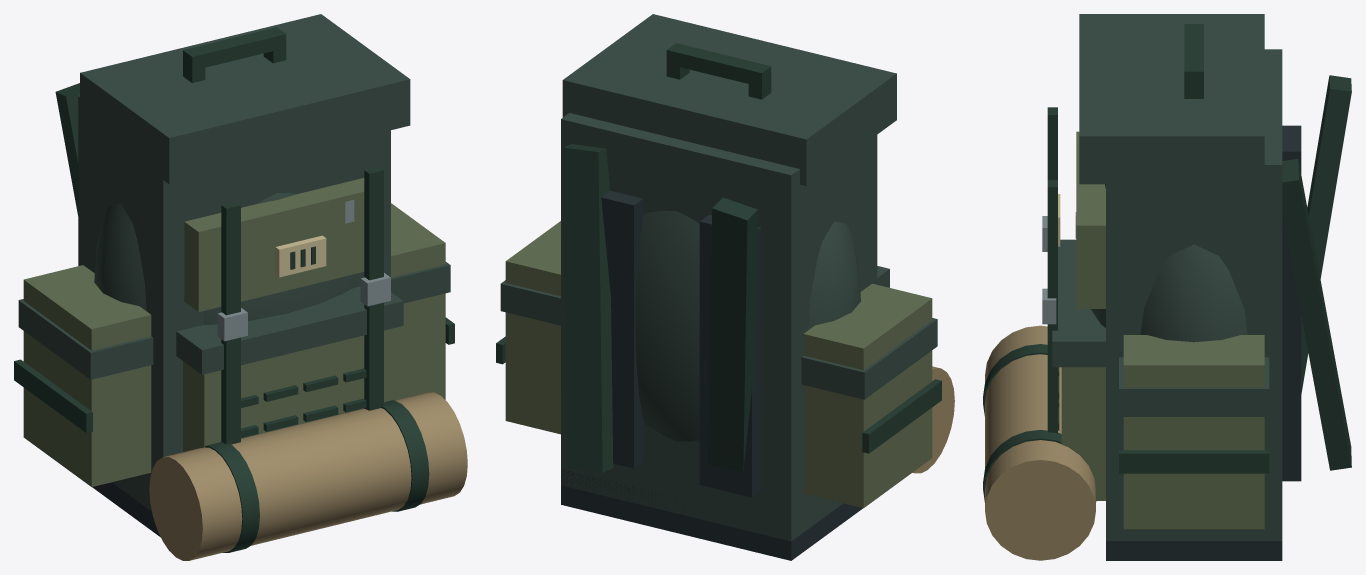
Rendered from FSA_ITEM_Backpack_Level3.glb.
3 renders of one model, left to right at view 1: azimuth 30°, elevation 25°; view 2: azimuth 150°, elevation 25°; view 3: azimuth 270°, elevation 25°, orthographic. The views are drawn at different scales.
Visible parts, largest first — view 1: TopFlap, Bedroll, BagCore, SidePocket_-1, UpperPocket, FrontPocket, PocketFlap, SidePocket_1, SoftShell, FrontStrap_-1, FrontStrap_1, SideFlap_-1 (+10 smaller); view 2: BagCore, TopFlap, SidePocket_-1, SoftShell, ShoulderStrap_1, ShoulderStrap_-1, SidePocket_1, BackPadding_1, BottomReinforce, BackPadding_-1, SideFlap_-1, CarryHandle (+3 smaller); view 3: BagCore, TopFlap, SidePocket_1, Bedroll, ShoulderStrap_1, SoftShell, SideFlap_1, ShoulderStrap_-1, FrontPocket, BackPadding_1, PocketFlap, UpperPocket (+9 smaller).
Boxes of the visible parts, x1,y1,x2,y2 form: TopFlap: (80,14,410,184); Bedroll: (149,392,467,560); BagCore: (78,95,390,511); SidePocket_-1: (23,265,151,486); UpperPocket: (184,178,364,311); FrontPocket: (183,328,392,451); PocketFlap: (176,286,403,374); SidePocket_1: (391,203,445,400); SoftShell: (94,193,351,324); FrontStrap_-1: (221,201,240,444); FrontStrap_1: (364,166,383,410); SideFlap_-1: (18,299,153,379); BagCore: (561,113,877,541); TopFlap: (562,14,896,186); SidePocket_-1: (803,283,932,508); SoftShell: (635,210,860,441); ShoulderStrap_1: (563,144,613,472); ShoulderStrap_-1: (708,197,757,472); SidePocket_1: (505,221,560,434); BackPadding_1: (601,190,643,468); BottomReinforce: (561,469,862,560); BackPadding_-1: (699,215,760,497); SideFlap_-1: (801,318,937,399); CarryHandle: (666,43,771,86); BagCore: (1106,49,1282,540); TopFlap: (1079,14,1264,184); SidePocket_1: (1123,335,1264,529); Bedroll: (985,325,1095,560); ShoulderStrap_1: (1282,159,1351,470); SoftShell: (1091,184,1247,342); SideFlap_1: (1119,357,1269,416); ShoulderStrap_-1: (1301,75,1351,393); FrontPocket: (1061,367,1105,500); BackPadding_1: (1282,212,1301,481); PocketFlap: (1052,239,1105,367); UpperPocket: (1076,131,1105,308).
Bounding box in the file's own units: 0.501 × 0.569 × 0.4177.
